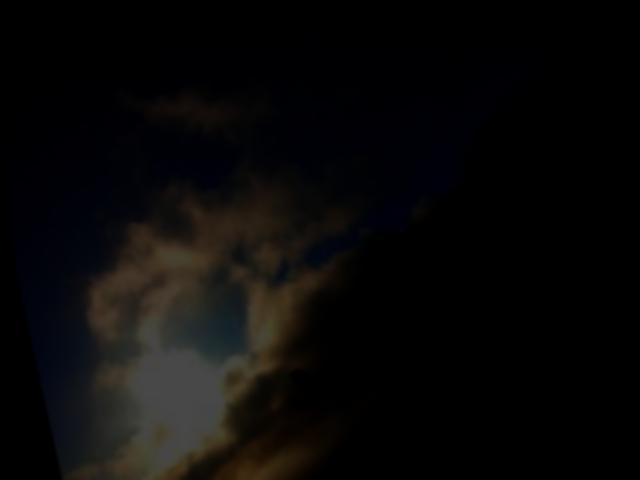uav: (255, 237, 423, 417)
